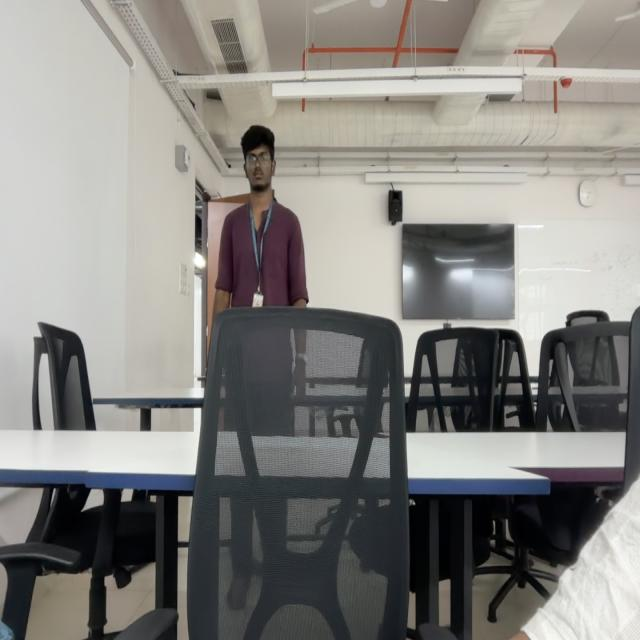ravindra: (242, 124, 276, 192)
